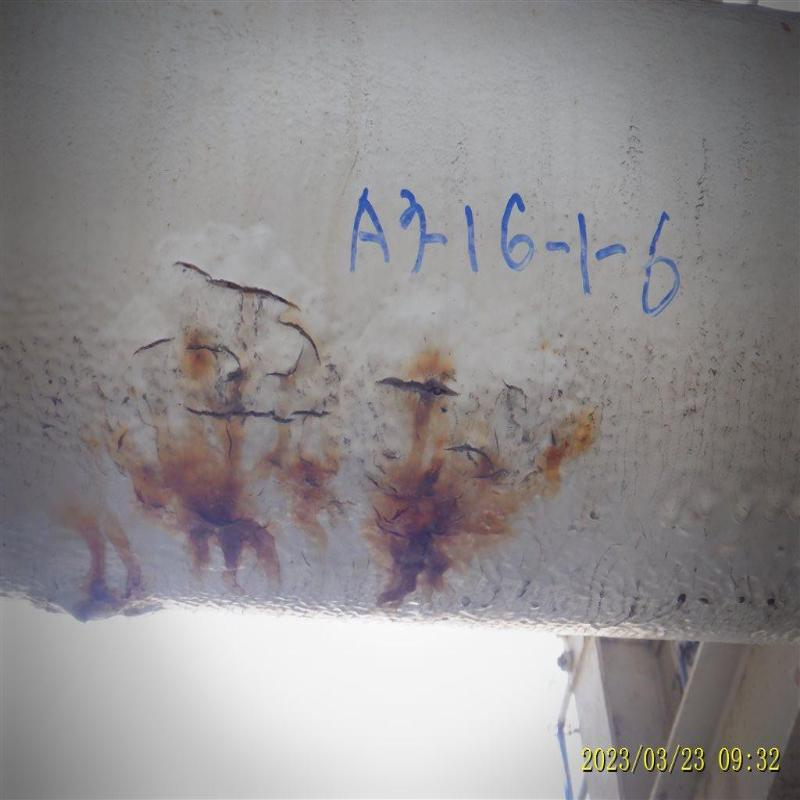Fracture: (185, 265, 332, 340), (196, 391, 339, 427), (377, 363, 477, 408)
corrosion: (144, 465, 278, 573), (379, 424, 456, 606)
